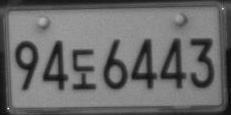3: (189, 37, 215, 88)
4: (42, 39, 69, 90), (160, 37, 187, 88), (131, 37, 157, 89)
6: (102, 38, 128, 89)
9: (13, 39, 39, 90)
도: (72, 48, 97, 90)
